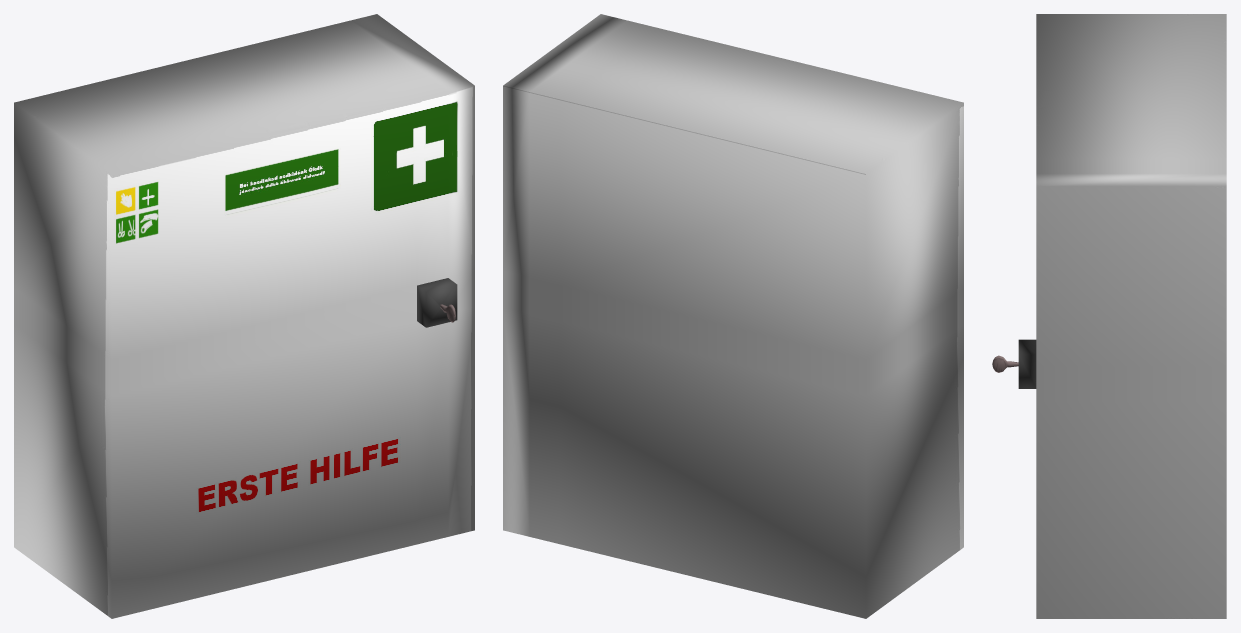
Rendered from FirstAid_Kit.fbx.
3 views of the same model, side by side, from view 1: azimuth 30°, elevation 25°; view 2: azimuth 150°, elevation 25°; view 3: azimuth 270°, elevation 25° (orthographic). The views are drawn at different scales.
Visible parts, largest first — view 1: Aid_Kit; view 2: Aid_Kit; view 3: Aid_Kit.
Part boxes in pixels (left/top/right/bottom): Aid_Kit: left=14, top=14, right=474, bottom=618; Aid_Kit: left=503, top=14, right=963, bottom=618; Aid_Kit: left=992, top=14, right=1226, bottom=618.
Size of the model in its own units: 16.8 by 19.66 by 9.65.
Materials: 1 (1 with a texture image).
